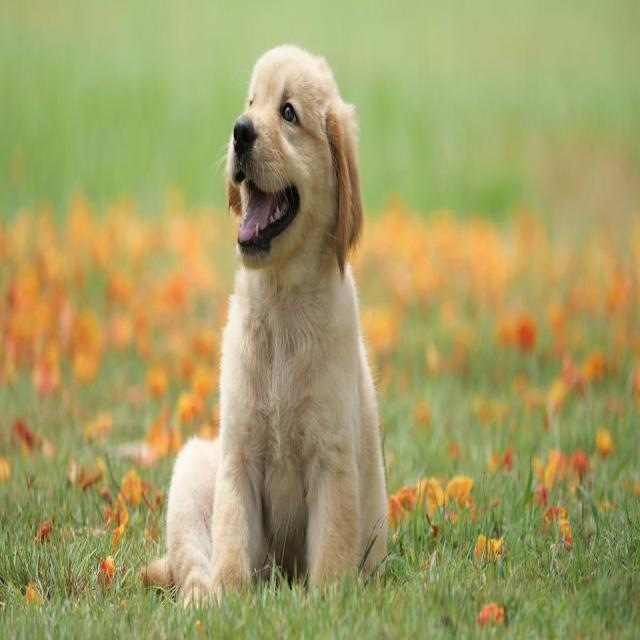dog: (145, 45, 389, 604)
